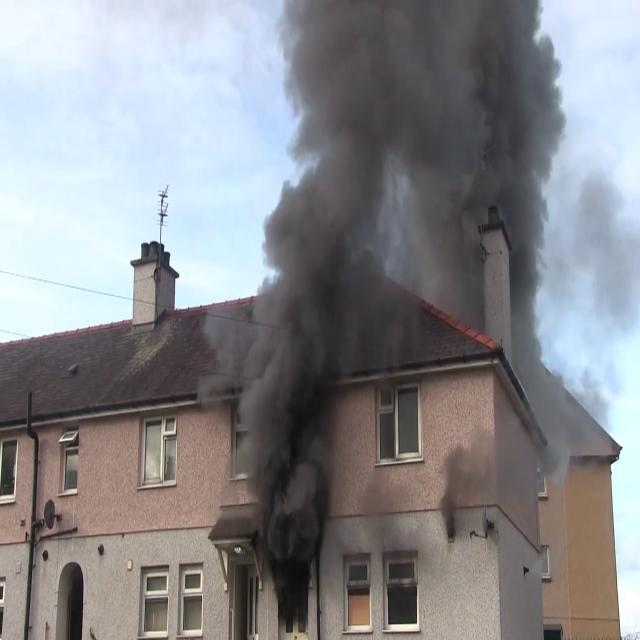Smoke: (243, 0, 554, 336), (234, 0, 399, 551), (428, 424, 528, 514)
